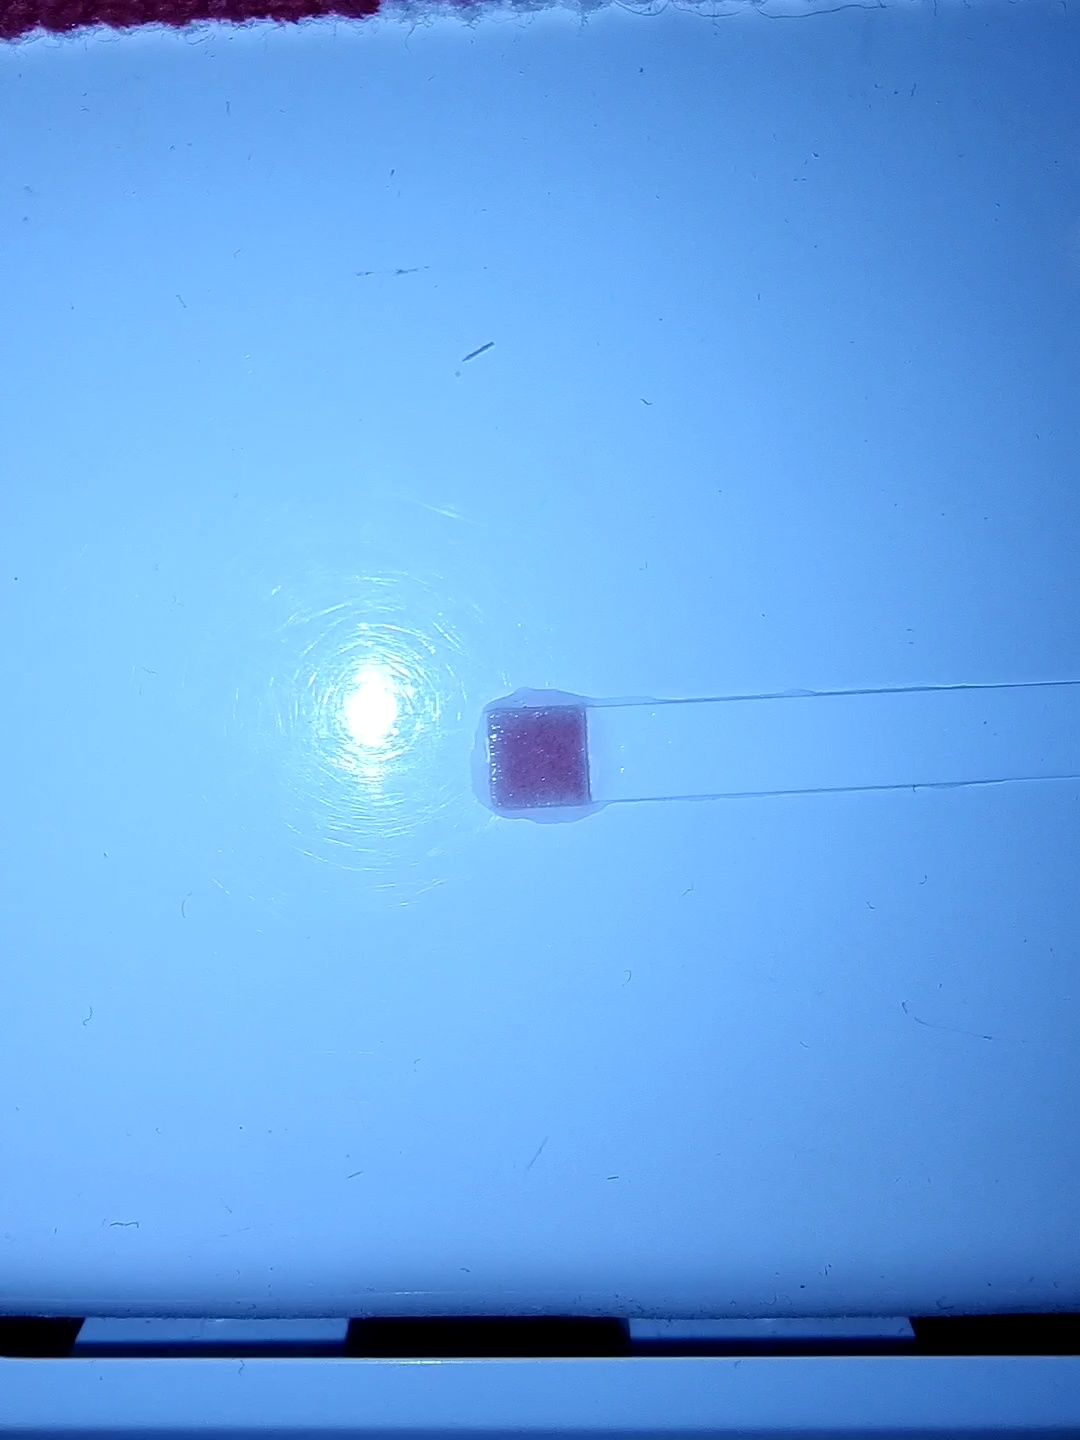keto-tip: (479, 701, 602, 819)
